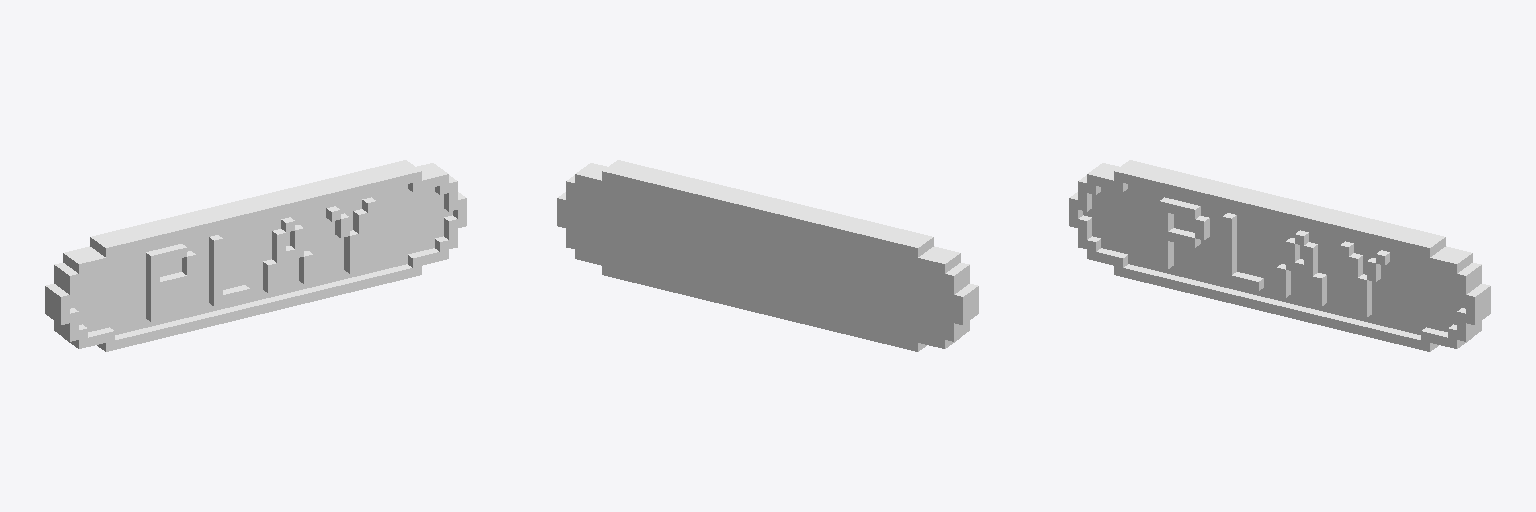
The model's file is ButtonsHelp-0.obj.
The picture shows the model from 3 angles: view 1: azimuth 30°, elevation 25°; view 2: azimuth 150°, elevation 25°; view 3: azimuth 330°, elevation 25°; orthographic projection.
Visible parts, largest first — view 1: ButtonsHelp-0; view 2: ButtonsHelp-0; view 3: ButtonsHelp-0.
Boxes of the visible parts, x1,y1,x2,y2 form: ButtonsHelp-0: [45, 160, 466, 351]; ButtonsHelp-0: [557, 160, 978, 351]; ButtonsHelp-0: [1069, 160, 1490, 351].
Size of the model in its own units: 45 by 11 by 3.